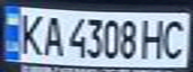0: (103, 16, 121, 60)
3: (84, 16, 106, 60)
4: (63, 15, 87, 58)
8: (118, 17, 142, 61)
A: (39, 12, 66, 57)
C: (157, 16, 190, 61)
H: (139, 16, 169, 61)
K: (12, 10, 45, 56)
